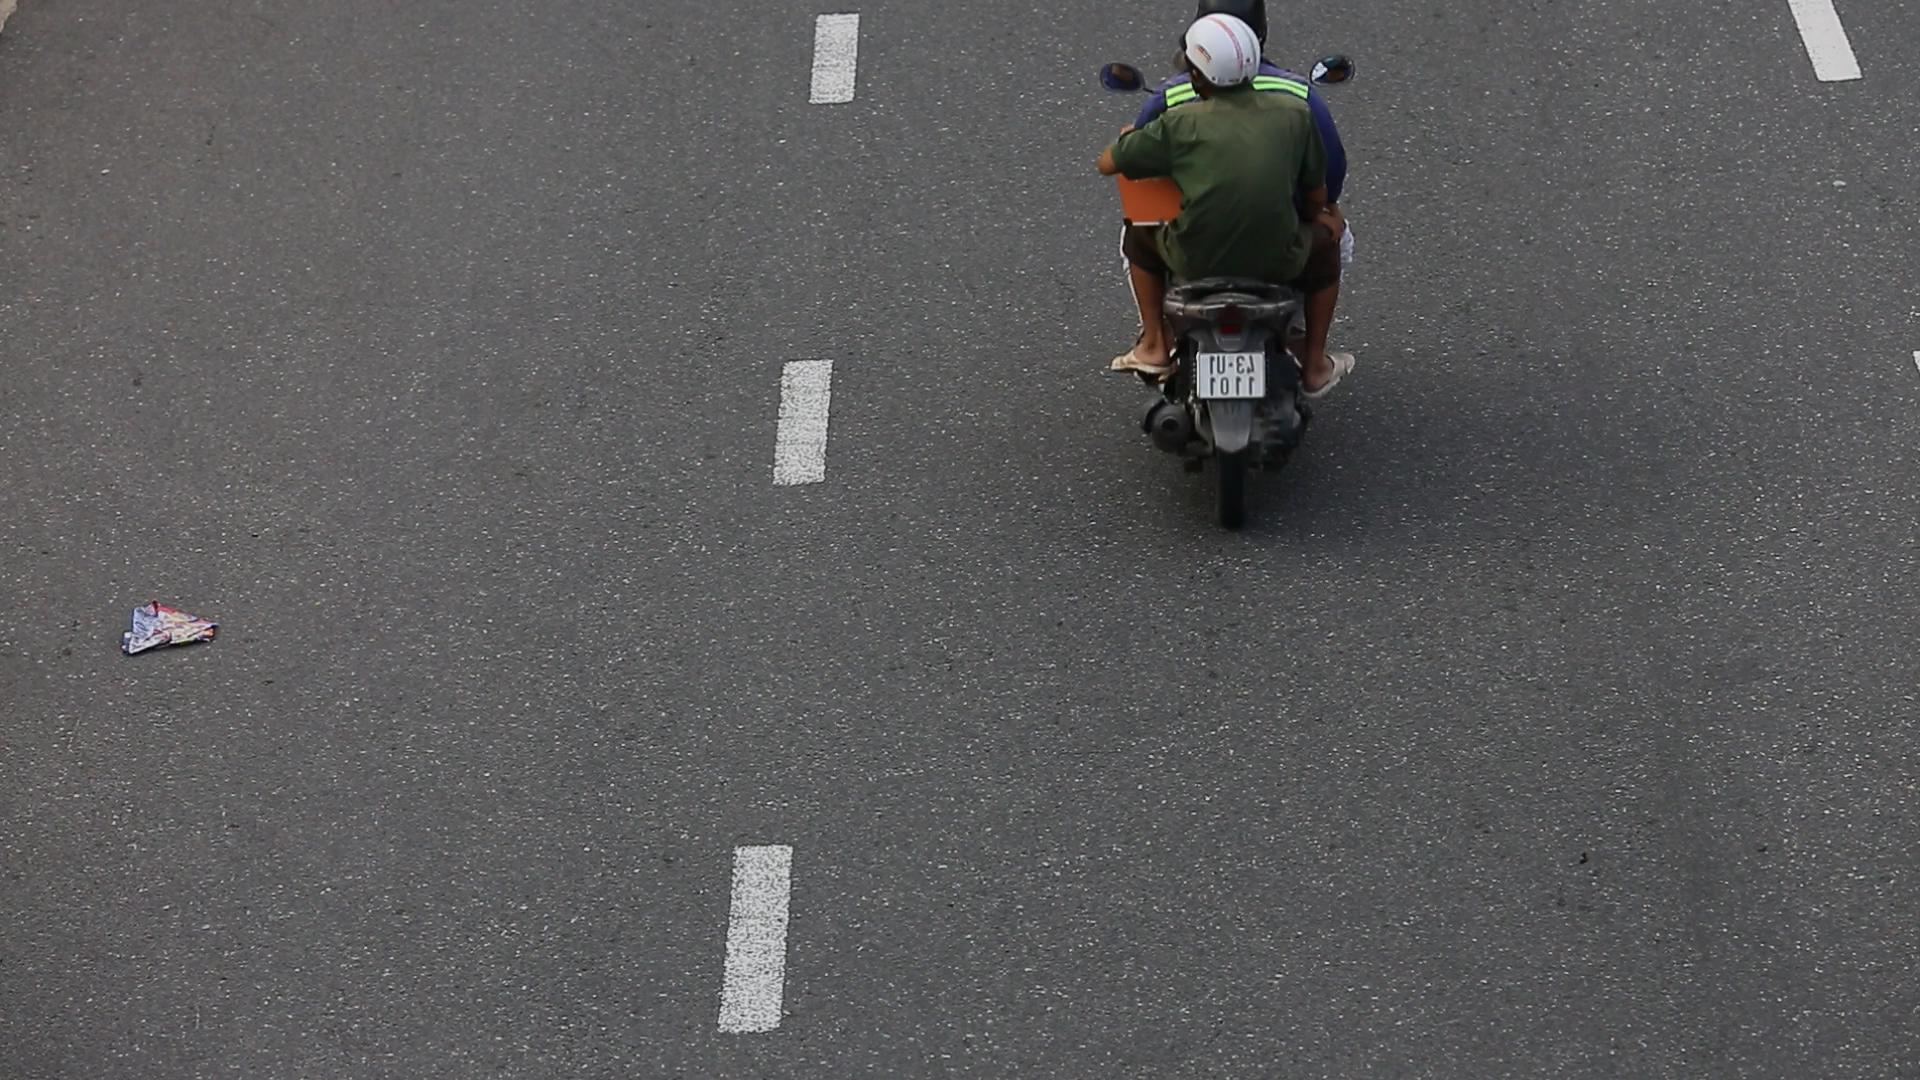motobike: (1075, 1, 1382, 537)
